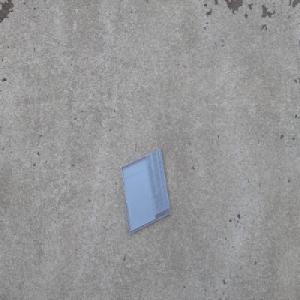PlasticPart: (119, 147, 171, 235)
